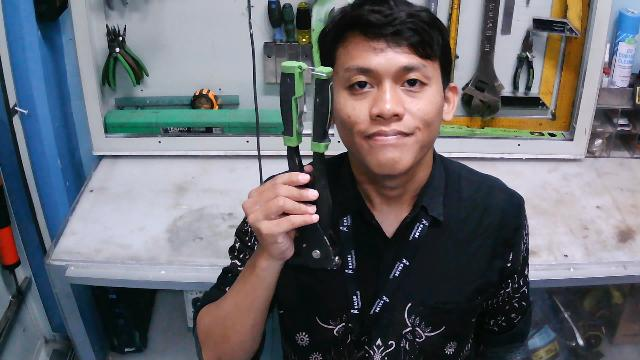tang_rivet: (273, 57, 342, 272)
